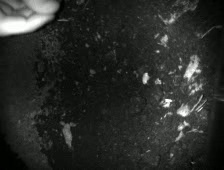corn: (138, 70, 153, 85)
